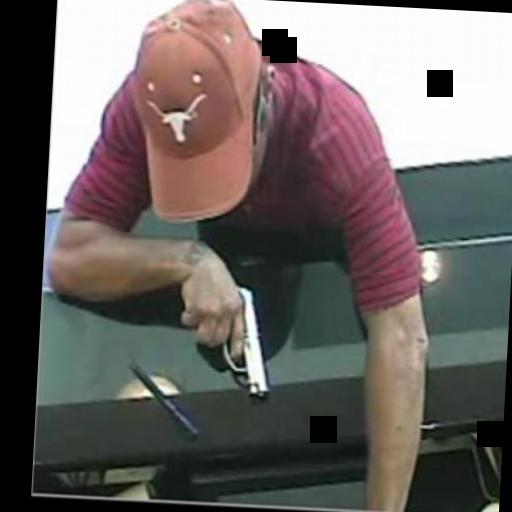Handgun: (176, 276, 274, 397)
